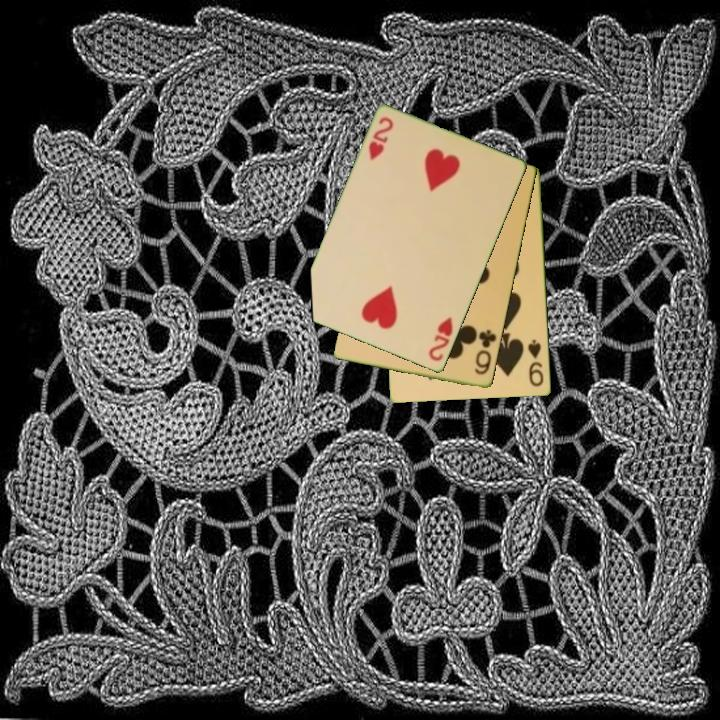2h: (425, 314, 456, 365), (365, 114, 396, 164)
6c: (471, 326, 499, 378)
9s: (524, 336, 546, 389)
